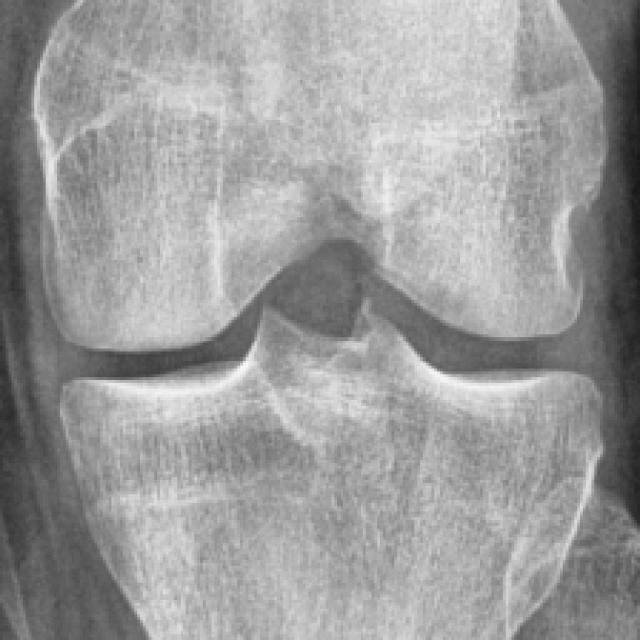femur: (31, 0, 609, 353)
tibia: (65, 302, 605, 640)
